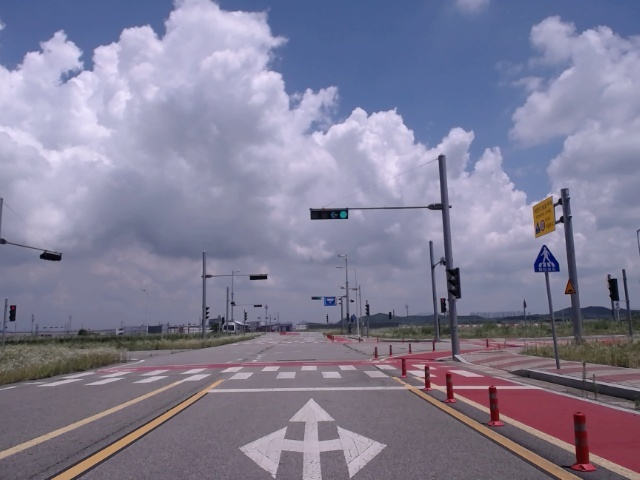all_green_4: (310, 208, 351, 220)
